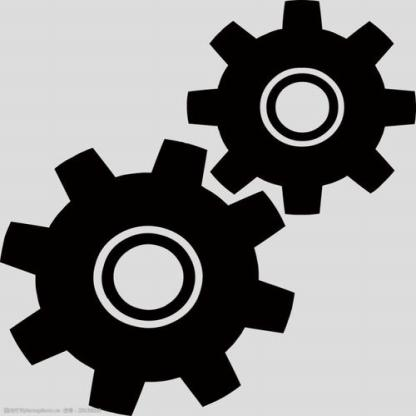FOD: (0, 135, 300, 415), (184, 0, 415, 216)
